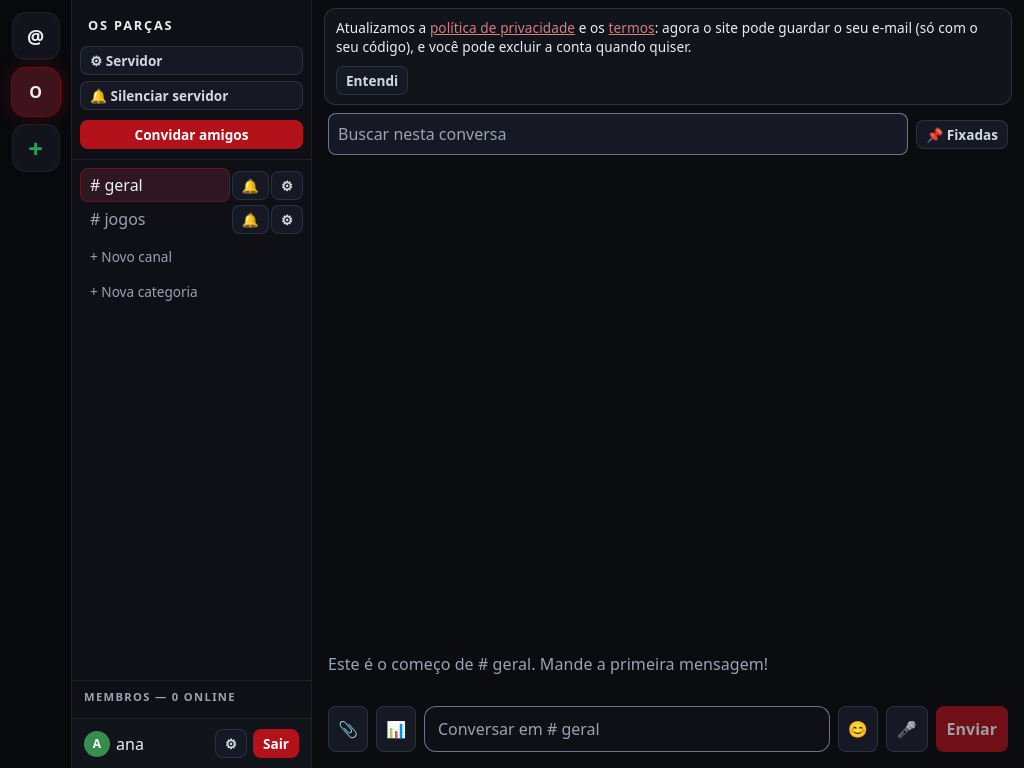
it: canais › trocar de canal muda o canal ativo
Click the button "# jogos": (155, 219) [80,202,230,236]
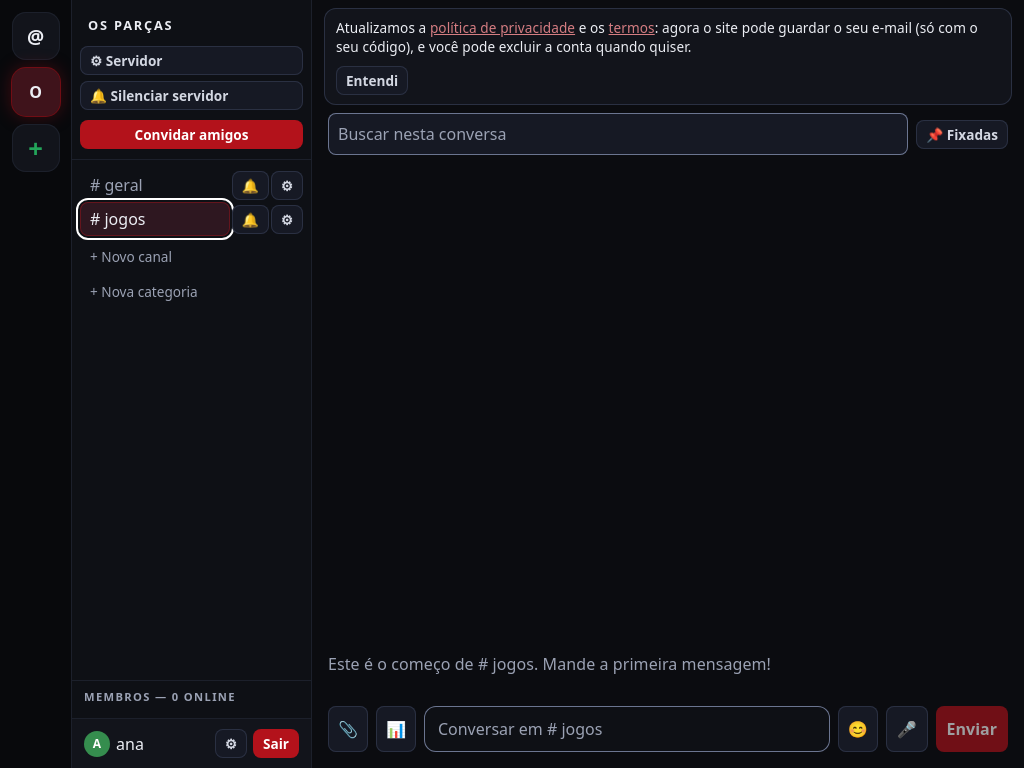
Now the field named "Mensagem em # jogos" is shown, box [424,706,830,752]
